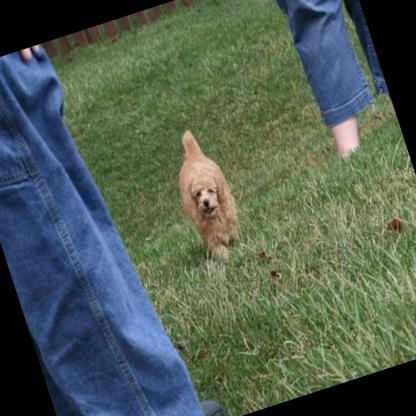miniature_poodle: (158, 118, 256, 271)
